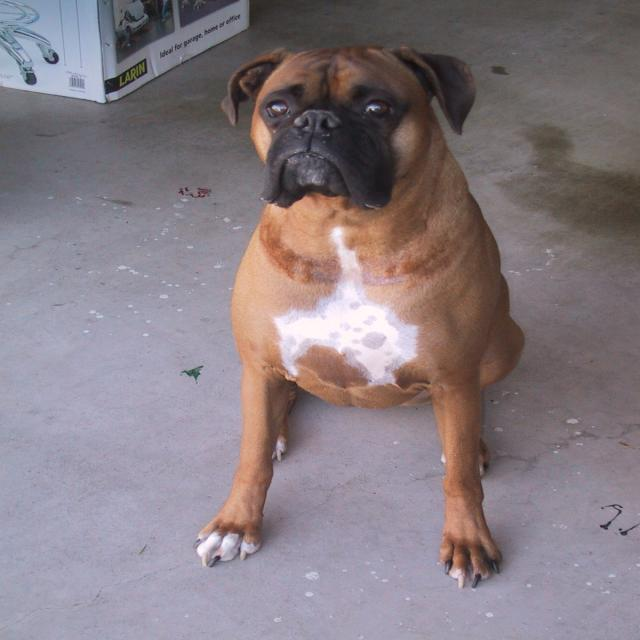dog: (167, 19, 556, 276)
